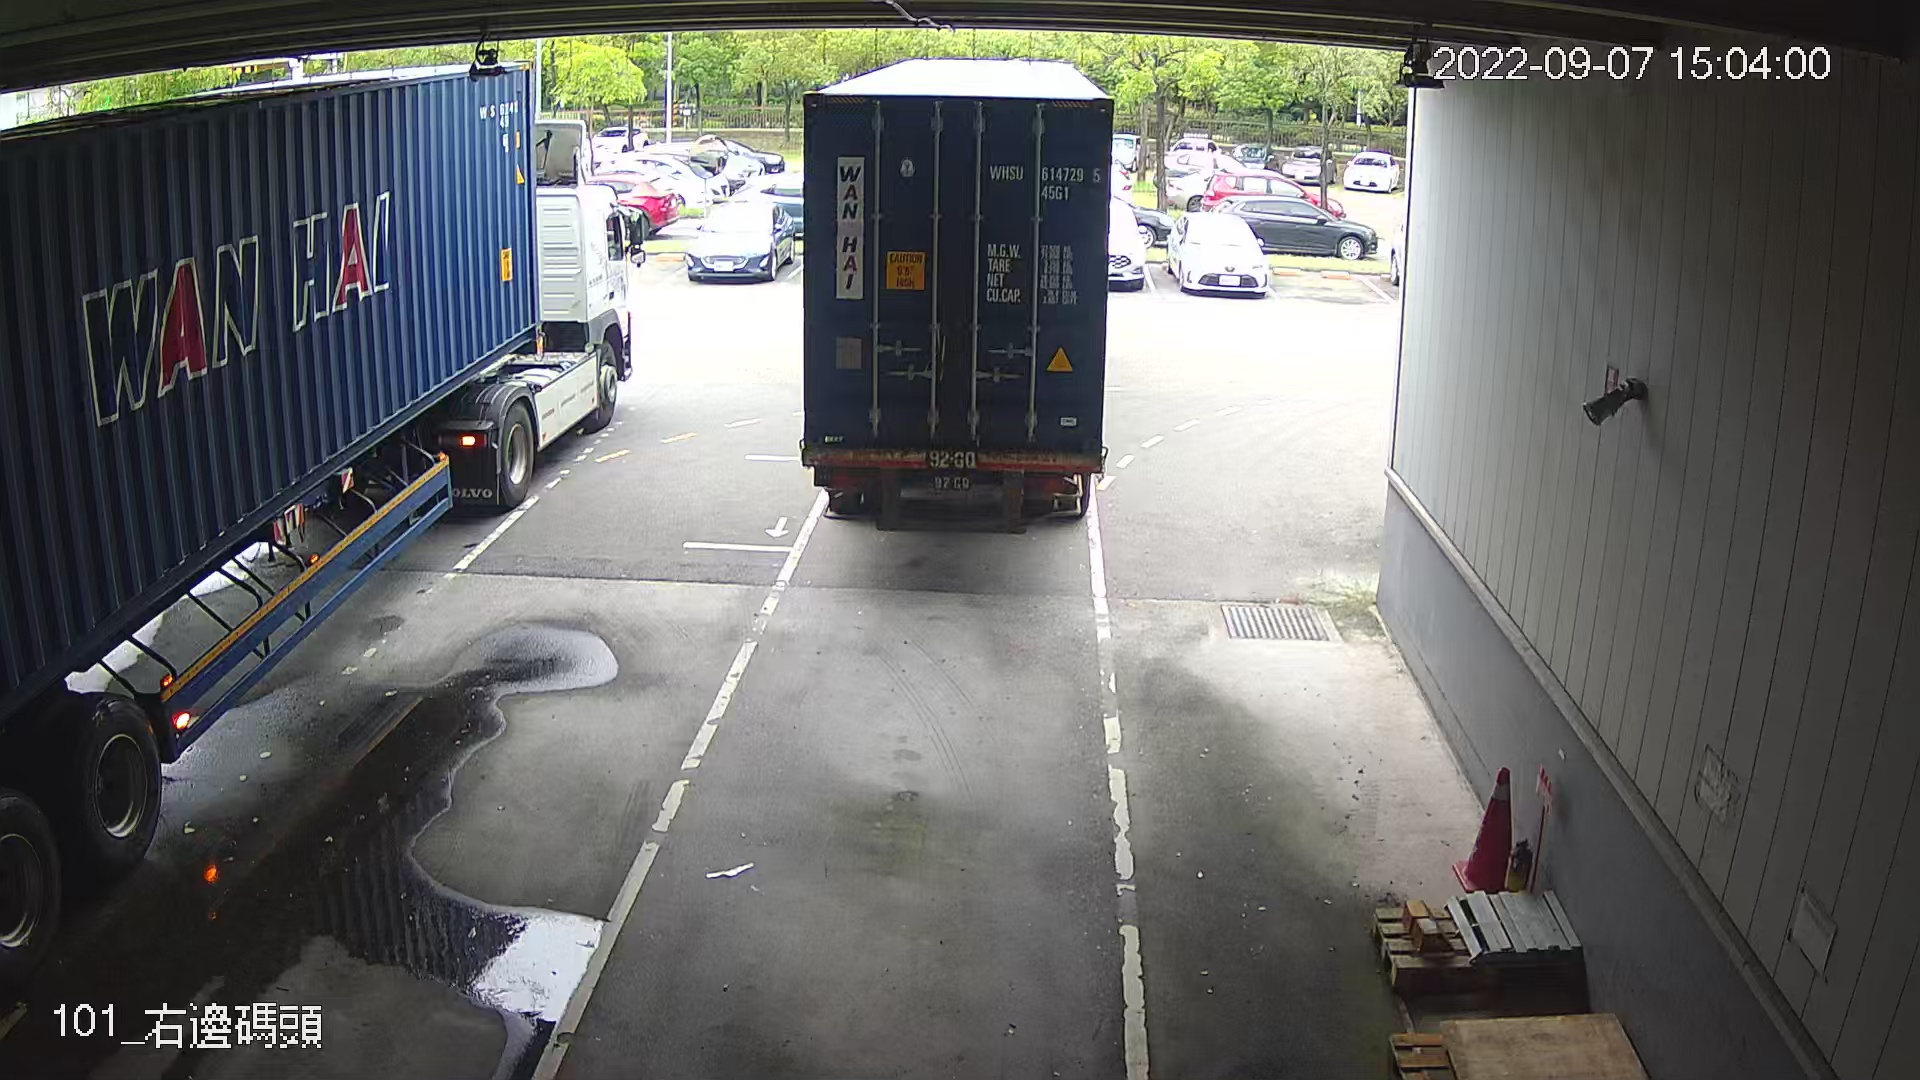container: (982, 154, 1104, 210)
